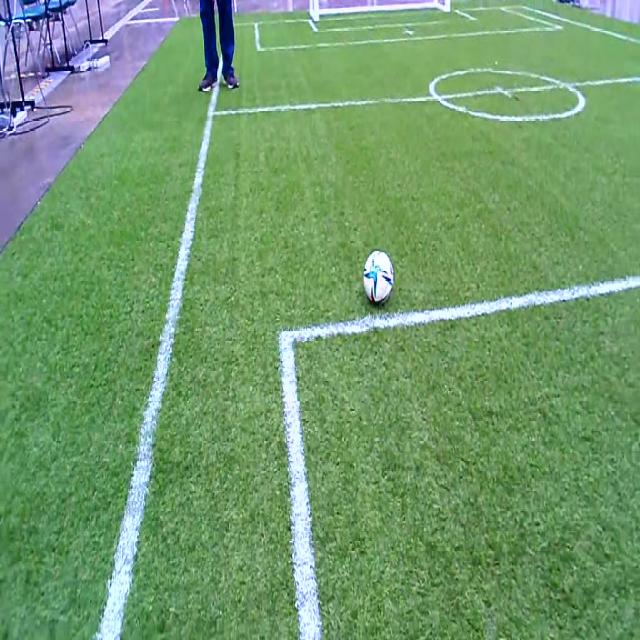ball: (363, 250, 394, 305)
